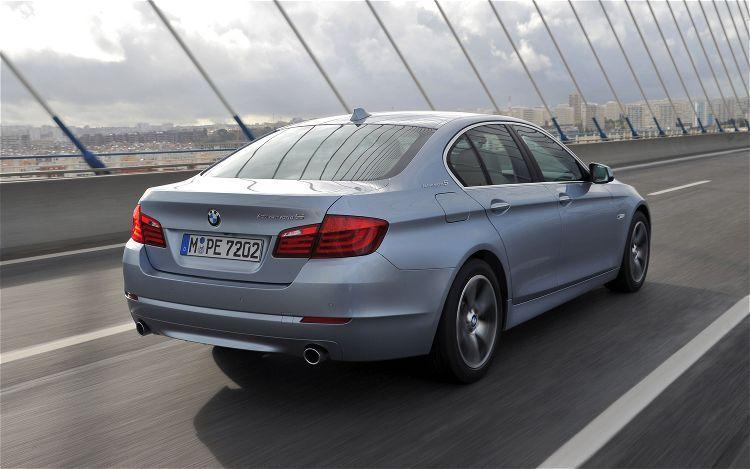car: (95, 89, 668, 402)
